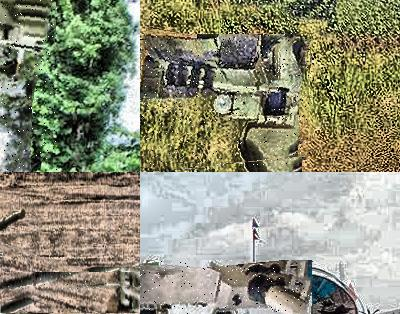tanks: (141, 36, 312, 166), (141, 266, 313, 314), (1, 273, 95, 291), (1, 251, 35, 299), (1, 211, 25, 231), (123, 273, 141, 283)
